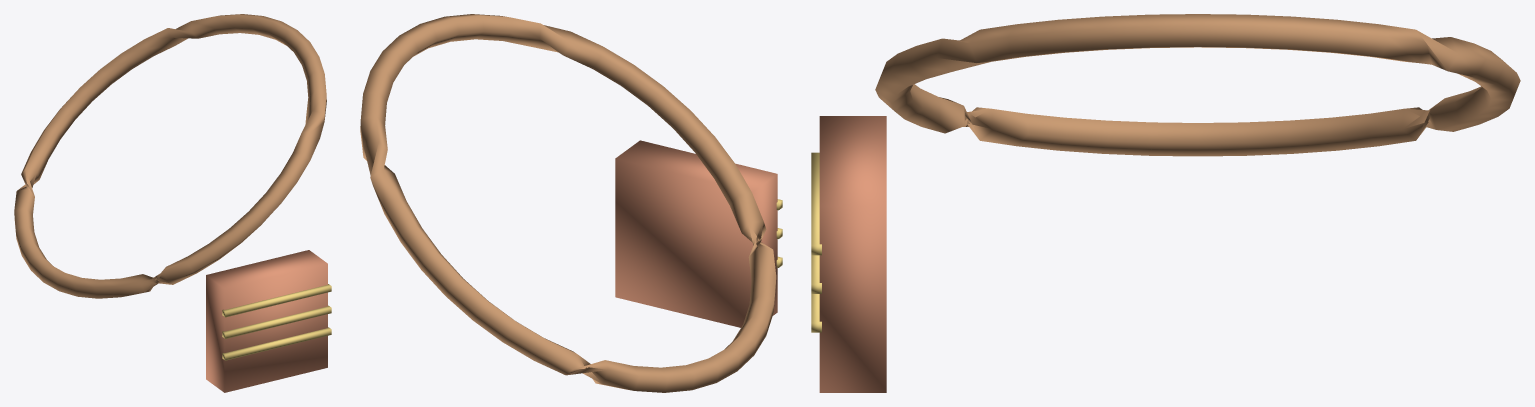
Rendered from acc-cloth-bag.glb.
The picture shows the model from 3 angles, left to right: view 1: azimuth 30°, elevation 25°; view 2: azimuth 150°, elevation 25°; view 3: azimuth 270°, elevation 25°; orthographic projection. The views are drawn at different scales.
Visible parts, largest first — view 1: strap, bag, stripe1, stripe0, stripe2; view 2: strap, bag; view 3: strap, bag, stripe0.
Boxes of the visible parts, x1,y1,x2,y2 form: strap: (14, 14, 326, 298); bag: (206, 250, 327, 392); stripe1: (222, 305, 331, 338); stripe0: (222, 284, 331, 317); stripe2: (222, 327, 331, 360); strap: (360, 14, 776, 392); bag: (615, 140, 777, 327); strap: (875, 14, 1520, 156); bag: (819, 116, 886, 392); stripe0: (811, 152, 821, 255).
Bounding box in the file's own units: 1.75 × 1.58 × 2.33.
